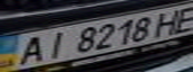1: (115, 17, 139, 46)
2: (93, 20, 118, 52)
8: (130, 12, 160, 43), (72, 24, 100, 54)
A: (9, 33, 51, 66)
E: (166, 3, 193, 34)
H: (148, 7, 190, 38)
I: (36, 28, 72, 61)
